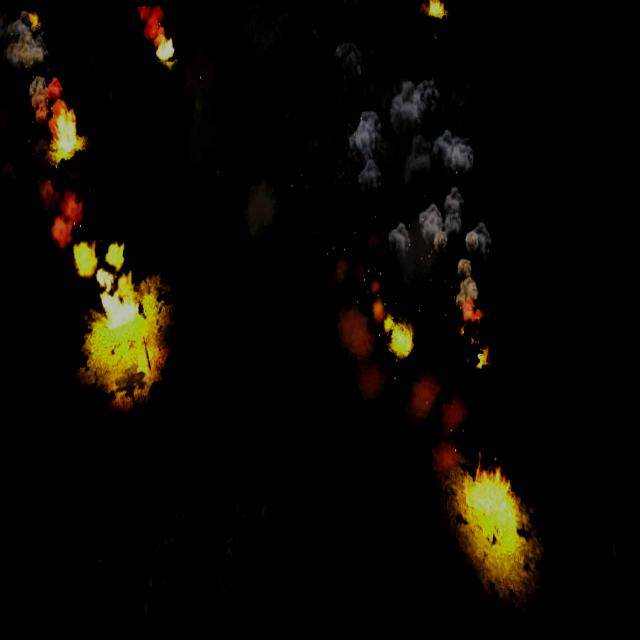fire: (70, 236, 180, 412), (462, 448, 522, 550), (47, 100, 80, 162), (386, 314, 412, 356), (155, 36, 174, 62), (425, 0, 447, 18), (476, 346, 490, 370), (28, 10, 43, 30)
smoke: (326, 75, 504, 477), (0, 8, 80, 253), (178, 37, 226, 180), (238, 172, 281, 255), (138, 5, 164, 42)
